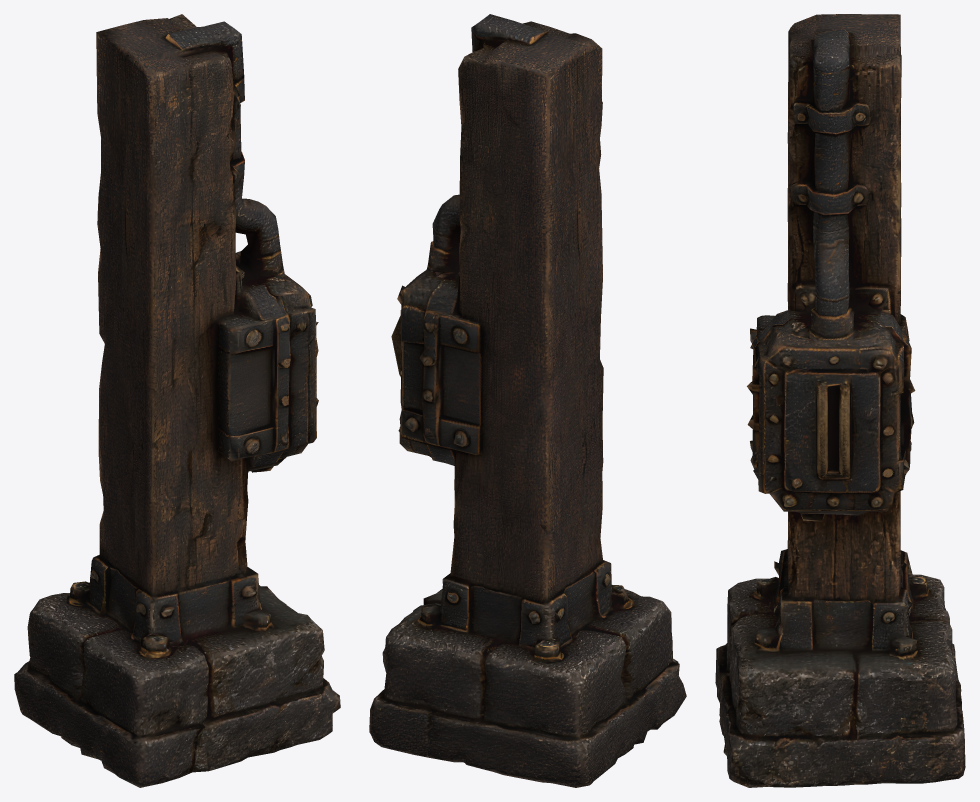
File: raw_leverbox.glb
The picture shows the model from 3 angles, left to right: view 1: azimuth 30°, elevation 25°; view 2: azimuth 150°, elevation 25°; view 3: azimuth 270°, elevation 25°; orthographic projection. The views are drawn at different scales.
Parts seen in each view (by area): view 1: tripo_node_5e8420d5-ca22-4ee8-b28f-4ce094f00960; view 2: tripo_node_5e8420d5-ca22-4ee8-b28f-4ce094f00960; view 3: tripo_node_5e8420d5-ca22-4ee8-b28f-4ce094f00960.
Boxes of the visible parts, x1,y1,x2,y2 form: tripo_node_5e8420d5-ca22-4ee8-b28f-4ce094f00960: (14,14,340,787); tripo_node_5e8420d5-ca22-4ee8-b28f-4ce094f00960: (369,14,686,787); tripo_node_5e8420d5-ca22-4ee8-b28f-4ce094f00960: (715,14,965,787).
Size of the model in its own units: 0.3677 by 1 by 0.3221.
1 material, 1 textured.
